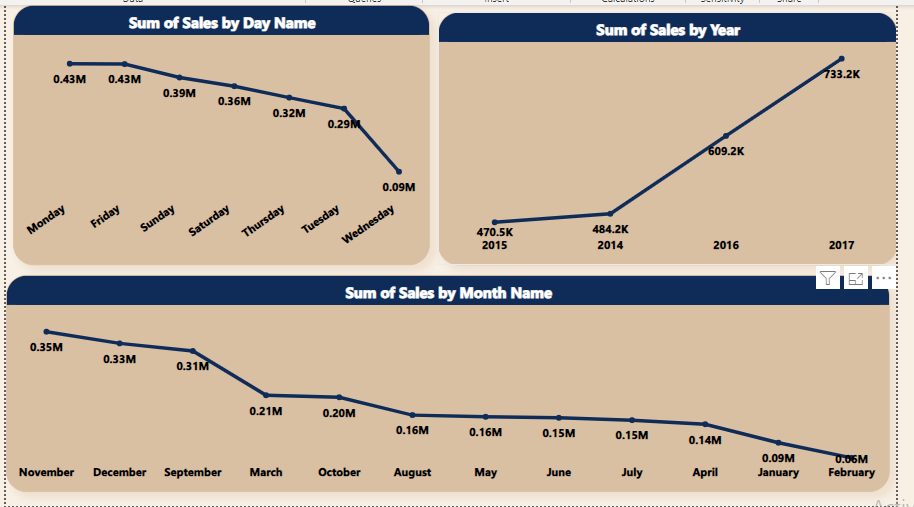

Layout of this report page (visuals, bound fields, positions):
{"tool":"powerbi","page":{"name":"Page 4","canvas":[1280,720],"ordinal":3},"visuals":[{"type":"lineChart","fields":{"Category":["DateTable.Day Name"],"Y":["Sum(Fact Table.Sales)"]},"box":[10.1,0,599.3,373.7],"z":0},{"type":"lineChart","fields":{"Category":["DateTable.Month Name"],"Y":["Sum(Fact Table.Sales)"]},"box":[0,388,1270.4,311.9],"z":1},{"type":"lineChart","fields":{"Y":["Sum(Fact Table.Sales)"],"Category":["OrderDateTable.Year"]},"box":[620.8,10.1,659.6,363.6],"z":2}]}

Visuals, with their boxes on the page's 1280x720 design canvas (x1, y1, x2, y2). These are canvas units, not pixel positions in the 914x507 screenshot, which may show the page scaled, cropped or inside an application window:
lineChart - DateTable.Day Name x Sum(Fact Table.Sales): pyautogui.locateOnScreen(10, 0, 609, 374)
lineChart - DateTable.Month Name x Sum(Fact Table.Sales): pyautogui.locateOnScreen(0, 388, 1270, 700)
lineChart - Sum(Fact Table.Sales) x OrderDateTable.Year: pyautogui.locateOnScreen(621, 10, 1280, 374)
